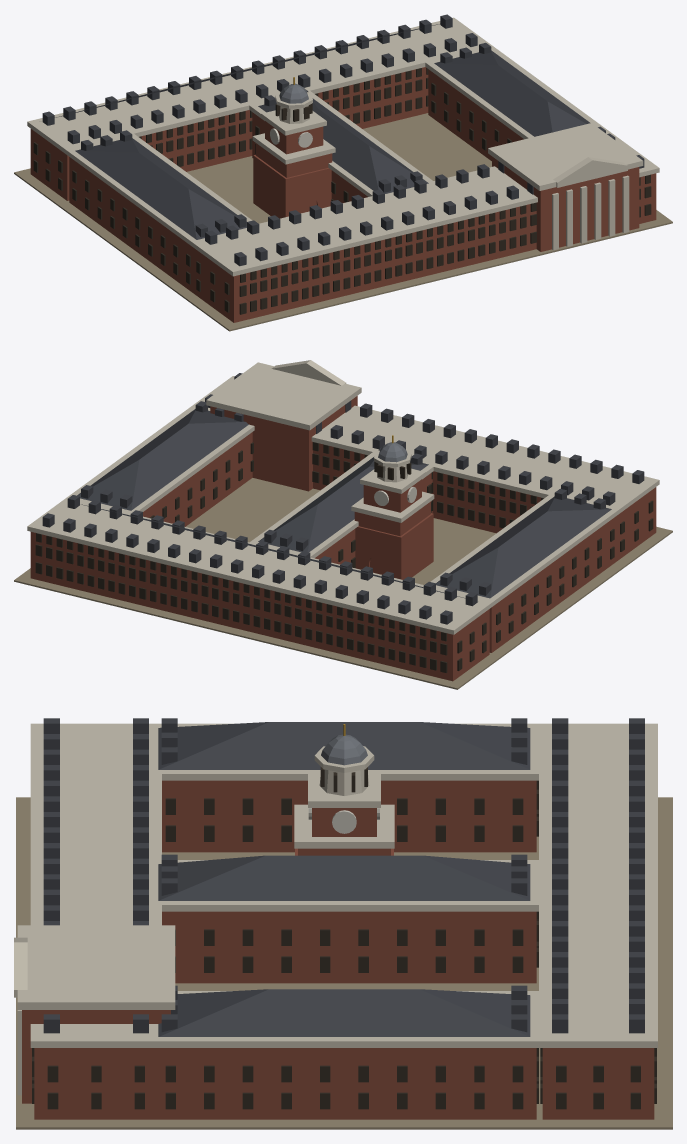
The model's file is kensington_palace.glb.
The picture shows the model from 3 angles, top to bottom: view 1: azimuth 30°, elevation 25°; view 2: azimuth 150°, elevation 25°; view 3: azimuth 270°, elevation 25°; orthographic projection. The views are drawn at different scales.
Parts seen in each view (by area): view 1: kensington_palace; view 2: kensington_palace; view 3: kensington_palace.
Part boxes in pixels (x1=…): kensington_palace: x1=14, y1=14, x2=672, y2=331; kensington_palace: x1=14, y1=360, x2=672, y2=689; kensington_palace: x1=14, y1=718, x2=672, y2=1129.
Size of the model in its own units: 126 by 36.2 by 106.
